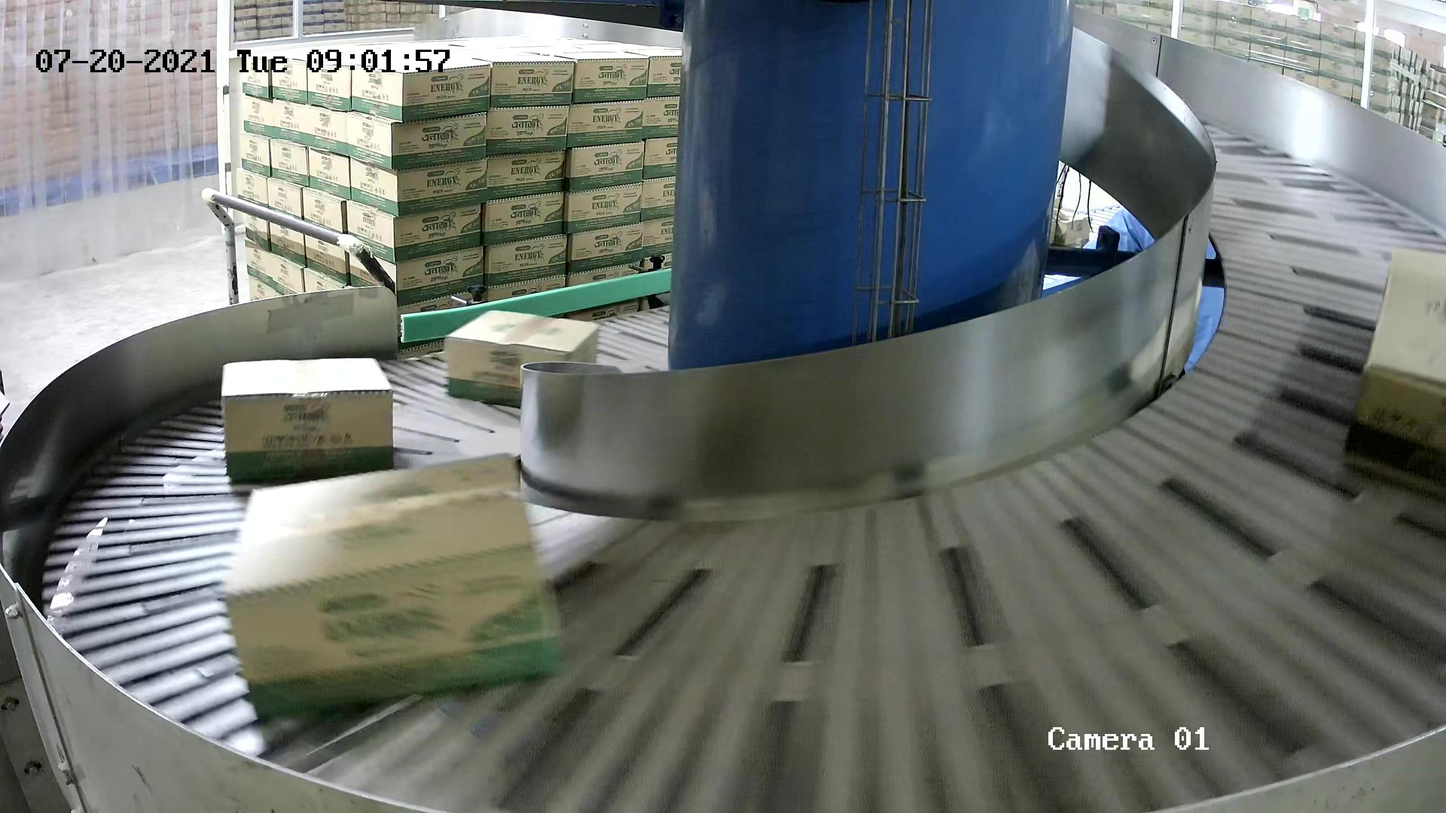Box: (217, 450, 567, 737), (1339, 243, 1446, 488), (219, 356, 397, 494), (444, 310, 603, 409)
